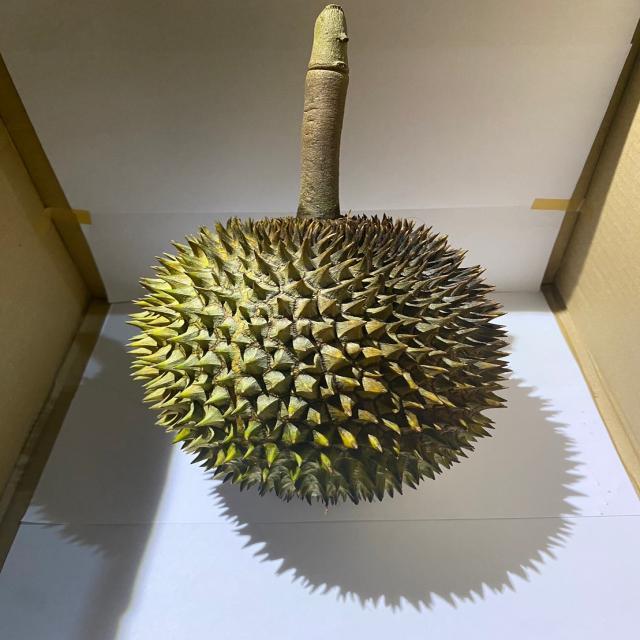immature: (120, 208, 516, 508)
